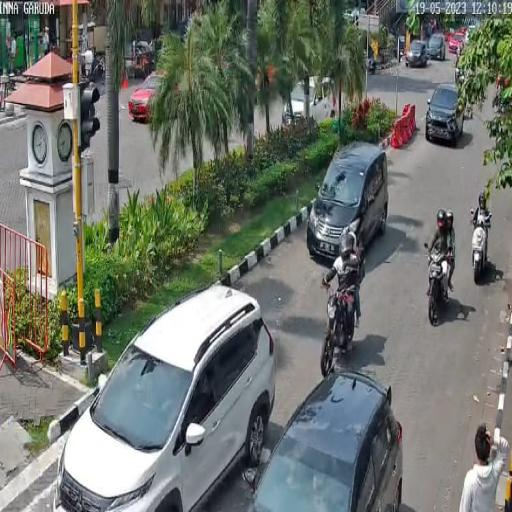mobil: (56, 278, 276, 512), (261, 369, 403, 512), (306, 138, 389, 266), (420, 79, 472, 154)
motor: (317, 270, 356, 391), (421, 234, 454, 331), (468, 204, 493, 285)
